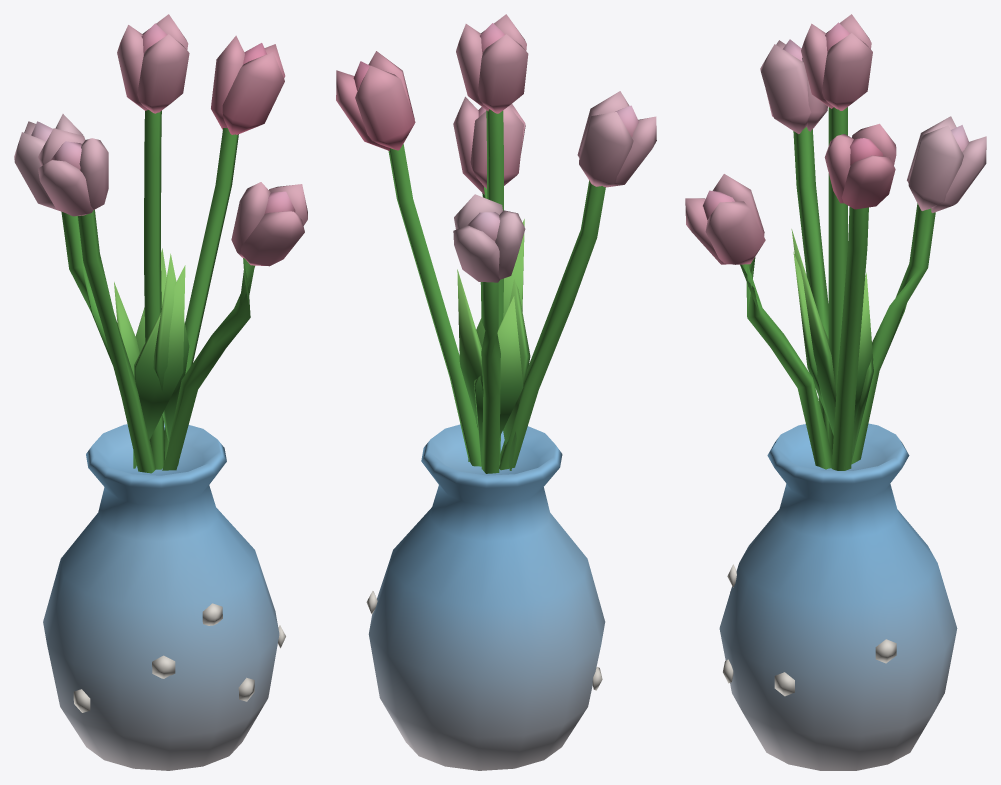
File: furn-flowerVase.glb
The picture shows the model from 3 angles, left to right: view 1: azimuth 30°, elevation 25°; view 2: azimuth 150°, elevation 25°; view 3: azimuth 270°, elevation 25°; orthographic projection.
Parts seen in each view (by area): view 1: furn-flowerVase; view 2: furn-flowerVase; view 3: furn-flowerVase.
Boxes of the visible parts, x1=… form: furn-flowerVase: x1=14, y1=14, x2=307, y2=770; furn-flowerVase: x1=336, y1=14, x2=656, y2=770; furn-flowerVase: x1=685, y1=14, x2=986, y2=770.
Bounding box in the file's own units: 0.1793 × 0.4427 × 0.1699.
